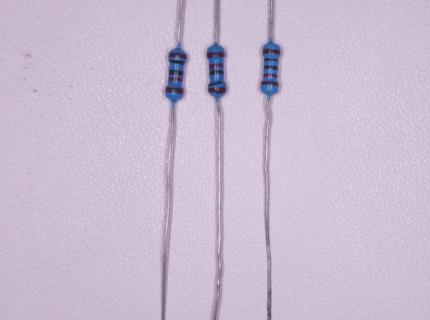Black band: (169, 68, 183, 76), (169, 59, 186, 65), (208, 81, 226, 86), (209, 70, 224, 75), (264, 65, 278, 70), (263, 58, 278, 62)
Brown band: (165, 87, 184, 94), (208, 87, 227, 94), (169, 52, 187, 59), (207, 52, 225, 58), (261, 81, 279, 86)
Red band: (209, 63, 224, 68), (168, 77, 183, 82), (263, 73, 277, 78)
